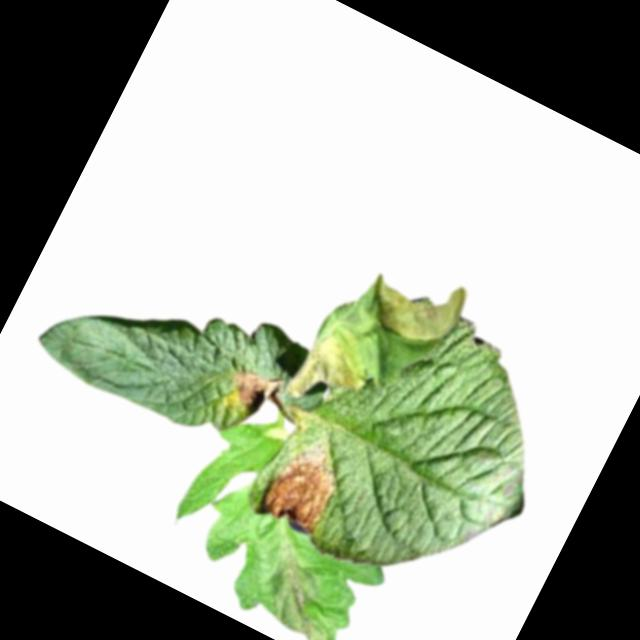Late_blight: (361, 251, 473, 359), (251, 430, 350, 540), (248, 543, 359, 640), (283, 317, 381, 424), (223, 358, 285, 418)
